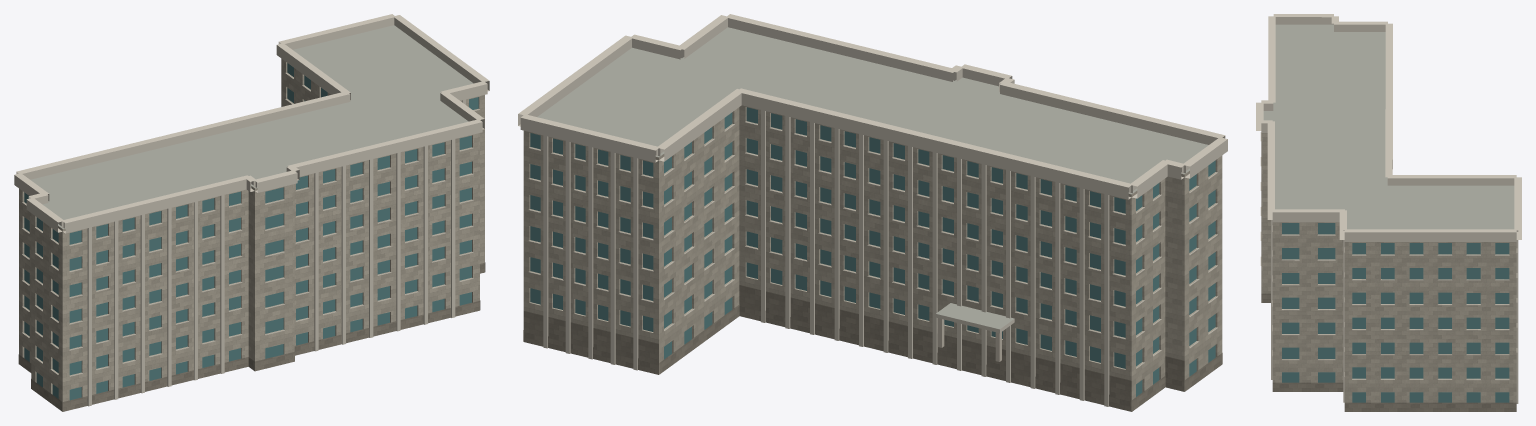
3 renders of one model, left to right at view 1: azimuth 30°, elevation 25°; view 2: azimuth 150°, elevation 25°; view 3: azimuth 270°, elevation 25°, orthographic. The views are drawn at different scales.
Parts seen in each view (by area): view 1: law__wall, law__trim, law__roof, law__glass, law__base; view 2: law__wall, law__trim, law__roof, law__glass, law__base; view 3: law__wall, law__roof, law__trim, law__glass, law__base.
Part boxes in pixels (x1,y1,x2,y2): law__wall: (19,58,484,411); law__trim: (14,14,489,406); law__roof: (30,25,473,228); law__glass: (24,63,478,400); law__base: (18,262,485,411); law__wall: (523,105,1222,411); law__trim: (518,14,1227,406); law__roof: (537,27,1208,329); law__glass: (530,107,1215,396); law__base: (523,285,1222,411); law__wall: (1261,133,1516,402); law__roof: (1263,24,1514,229); law__trim: (1256,14,1521,403); law__glass: (1282,223,1509,402); law__base: (1261,293,1516,411).
Bounding box in the file's own units: 69.6 × 27.02 × 35.8.
7 materials, 2 textured.
